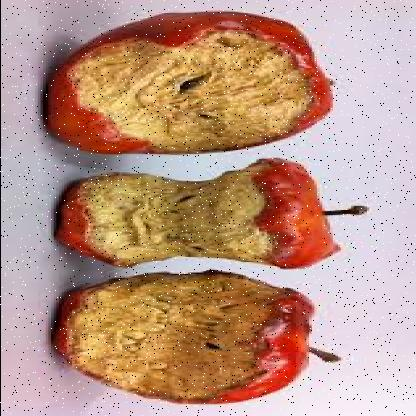damaged_apple: (29, 13, 337, 150), (32, 274, 316, 402), (55, 154, 340, 266)
